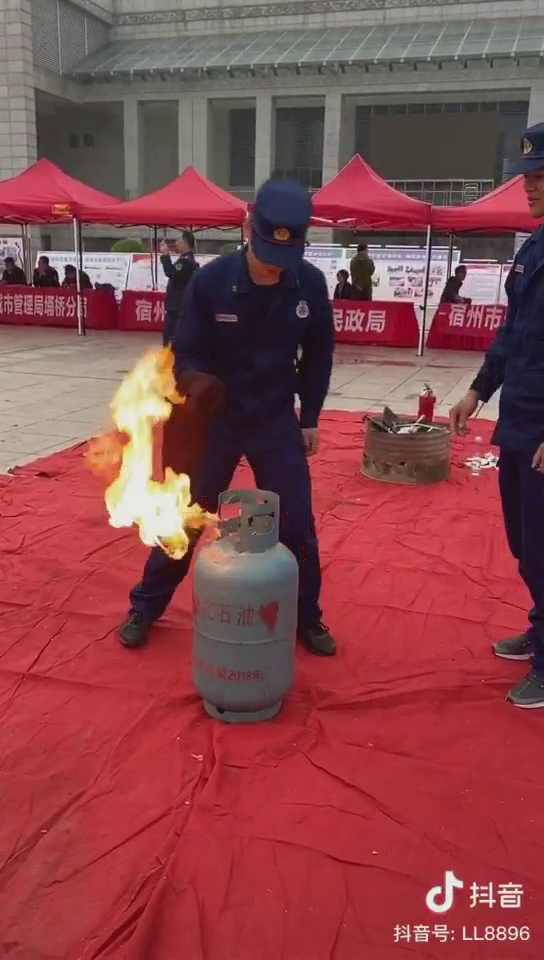fire: (91, 344, 193, 556)
